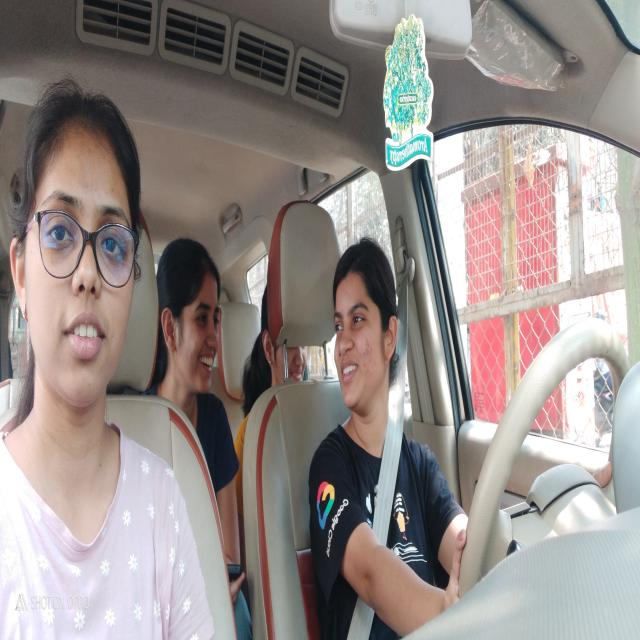LeftRight: (327, 249, 396, 416)
person: (27, 122, 132, 394), (163, 241, 226, 395), (261, 325, 311, 381)
talking: (337, 362, 362, 383)
